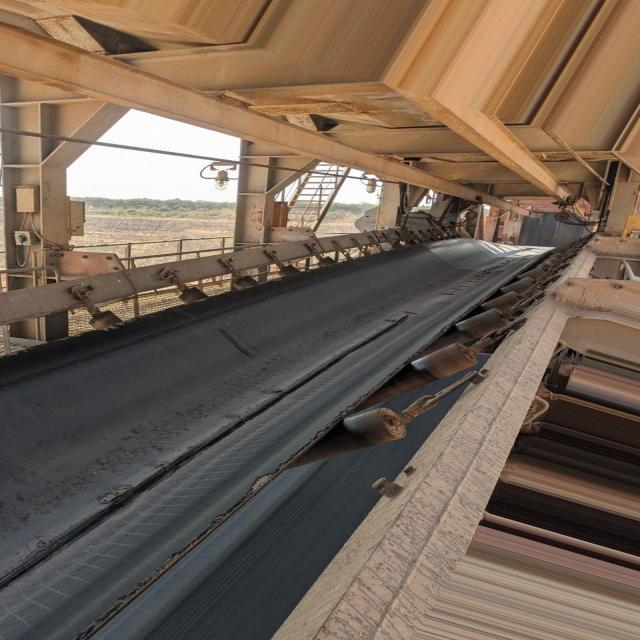Roller: (367, 340, 478, 407), (291, 418, 404, 470)
Tear: (0, 313, 411, 587)
